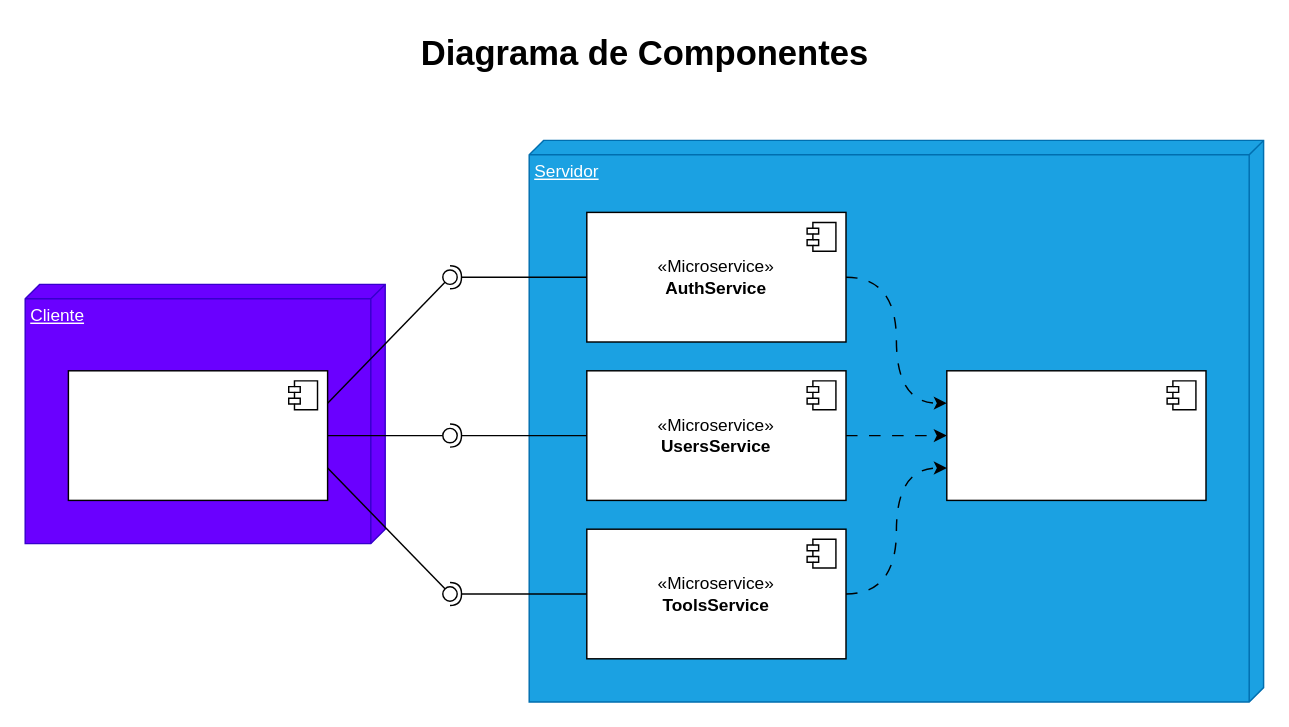
This 1289x727 diagram has some shape labels left out. Each missing label, with the centre of its shape:
"<<Component>> Frontend" goes at (197,434).
"«Component» Database" goes at (1075,434).
